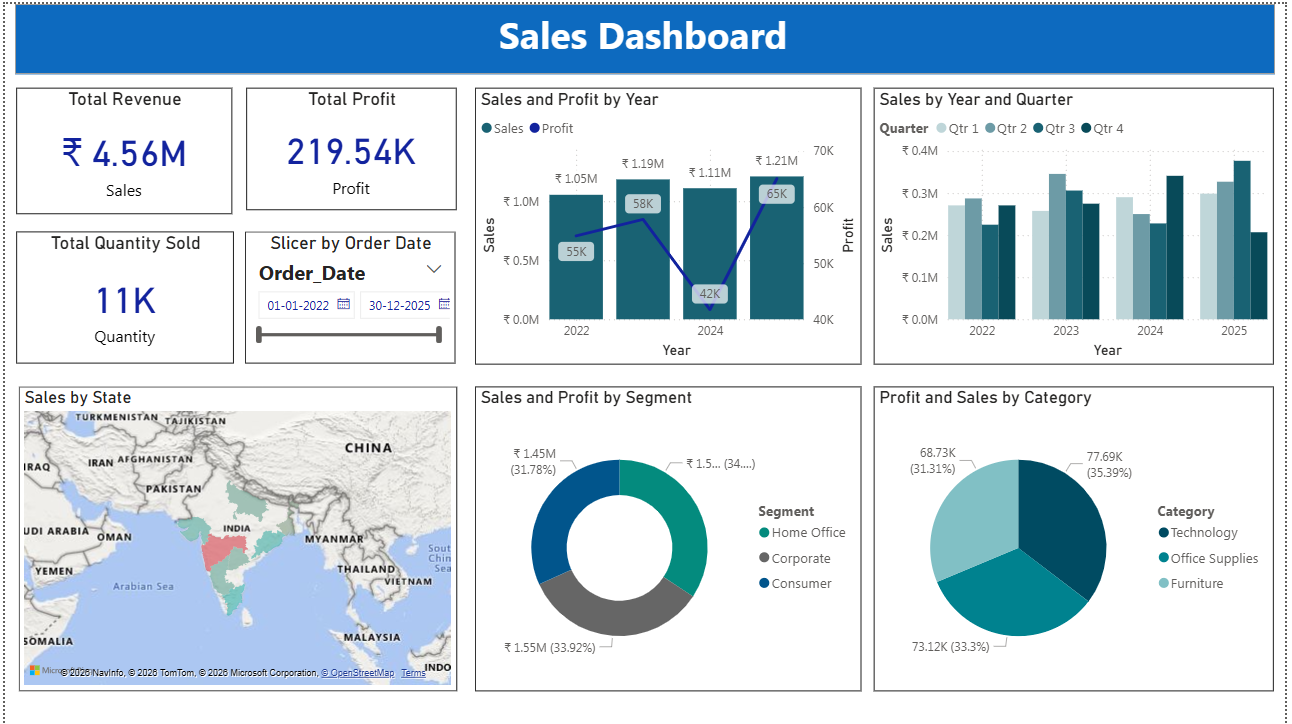

Layout of this report page (visuals, bound fields, positions):
{"tool":"powerbi","page":{"name":"Overall Sales","canvas":[1280,720],"ordinal":0},"visuals":[{"type":"textbox","box":[10,0,1260.1,70],"z":0},{"type":"card","title":"Total Revenue ","fields":{"Values":["Sum(Order.Sales)"]},"box":[11.8,83.8,216.2,126.5],"z":1000},{"type":"card","title":"Total Profit","fields":{"Values":["Sum(Order.Profit)"]},"box":[241.2,83.8,210.3,122.1],"z":2000},{"type":"card","title":"Total Quantity Sold","fields":{"Values":["Sum(Order.Quantity)"]},"box":[11.8,227.9,217.6,132.4],"z":3000},{"type":"slicer","title":"Slicer by Order Date","fields":{"Values":["Order.Order_Date"]},"box":[239.7,227.9,210.3,132.4],"z":4000},{"type":"lineStackedColumnComboChart","fields":{"Category":["Order.Order_Date.Variation.Date Hierarchy.Year","Order.Order_Date.Variation.Date Hierarchy.Quarter","Order.Order_Date.Variation.Date Hierarchy.Month","Order.Order_Date.Variation.Date Hierarchy.Day"],"Y2":["Sum(Order.Profit)"],"Y":["Sum(Order.Sales)"]},"box":[470.6,83.8,386.8,276.5],"z":5000},{"type":"clusteredColumnChart","fields":{"Category":["Order.Year"],"Y":["Sum(Order.Sales)"],"Series":["Order.Quarter"]},"box":[869.1,83.8,400,276.5],"z":6000},{"type":"filledMap","fields":{"Category":["Order.State"]},"box":[13.2,382.4,438.2,304.4],"z":7000},{"type":"donutChart","fields":{"Category":["Order.Segment"],"Y":["Sum(Order.Sales)"]},"box":[470.6,382.4,386.8,304.4],"z":8000},{"type":"pieChart","fields":{"Category":["Order.Category"],"Y":["Sum(Order.Profit)"]},"box":[869.1,382.4,400,304.4],"z":9000}]}

Visuals, with their boxes in screenshot pixels (x1, y1, x2, y2), scaled from the page's 1280x720 canvas onto the 1292x724 screenshot:
textbox: 10,0,1282,70
"Total Revenue " card: 12,84,230,211
"Total Profit" card: 243,84,456,207
"Total Quantity Sold" card: 12,229,232,362
"Slicer by Order Date" slicer: 242,229,454,362
lineStackedColumnComboChart - Order.Order_Date.Variation.Date Hierarchy.Year x Order.Order_Date.Variation.Date Hierarchy.Quarter: 475,84,865,362
clusteredColumnChart - Order.Year x Sum(Order.Sales): 877,84,1281,362
filledMap - Order.State: 13,385,456,691
donutChart - Order.Segment x Sum(Order.Sales): 475,385,865,691
pieChart - Order.Category x Sum(Order.Profit): 877,385,1281,691
